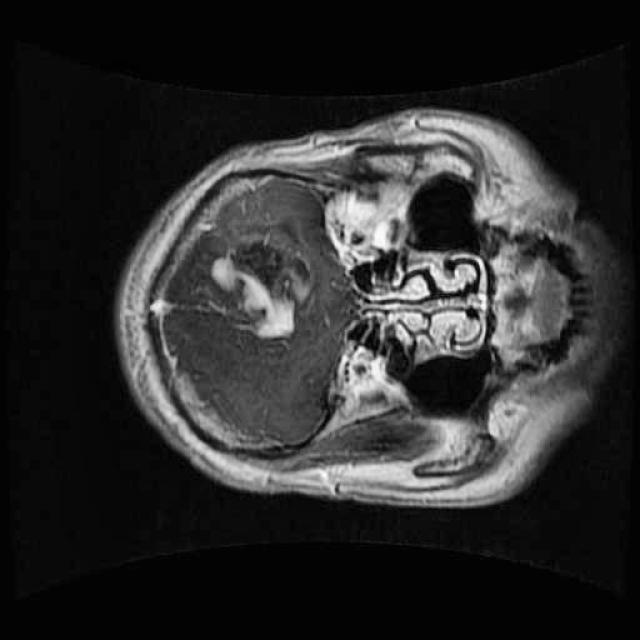Non-Tumor: (204, 225, 321, 350)
